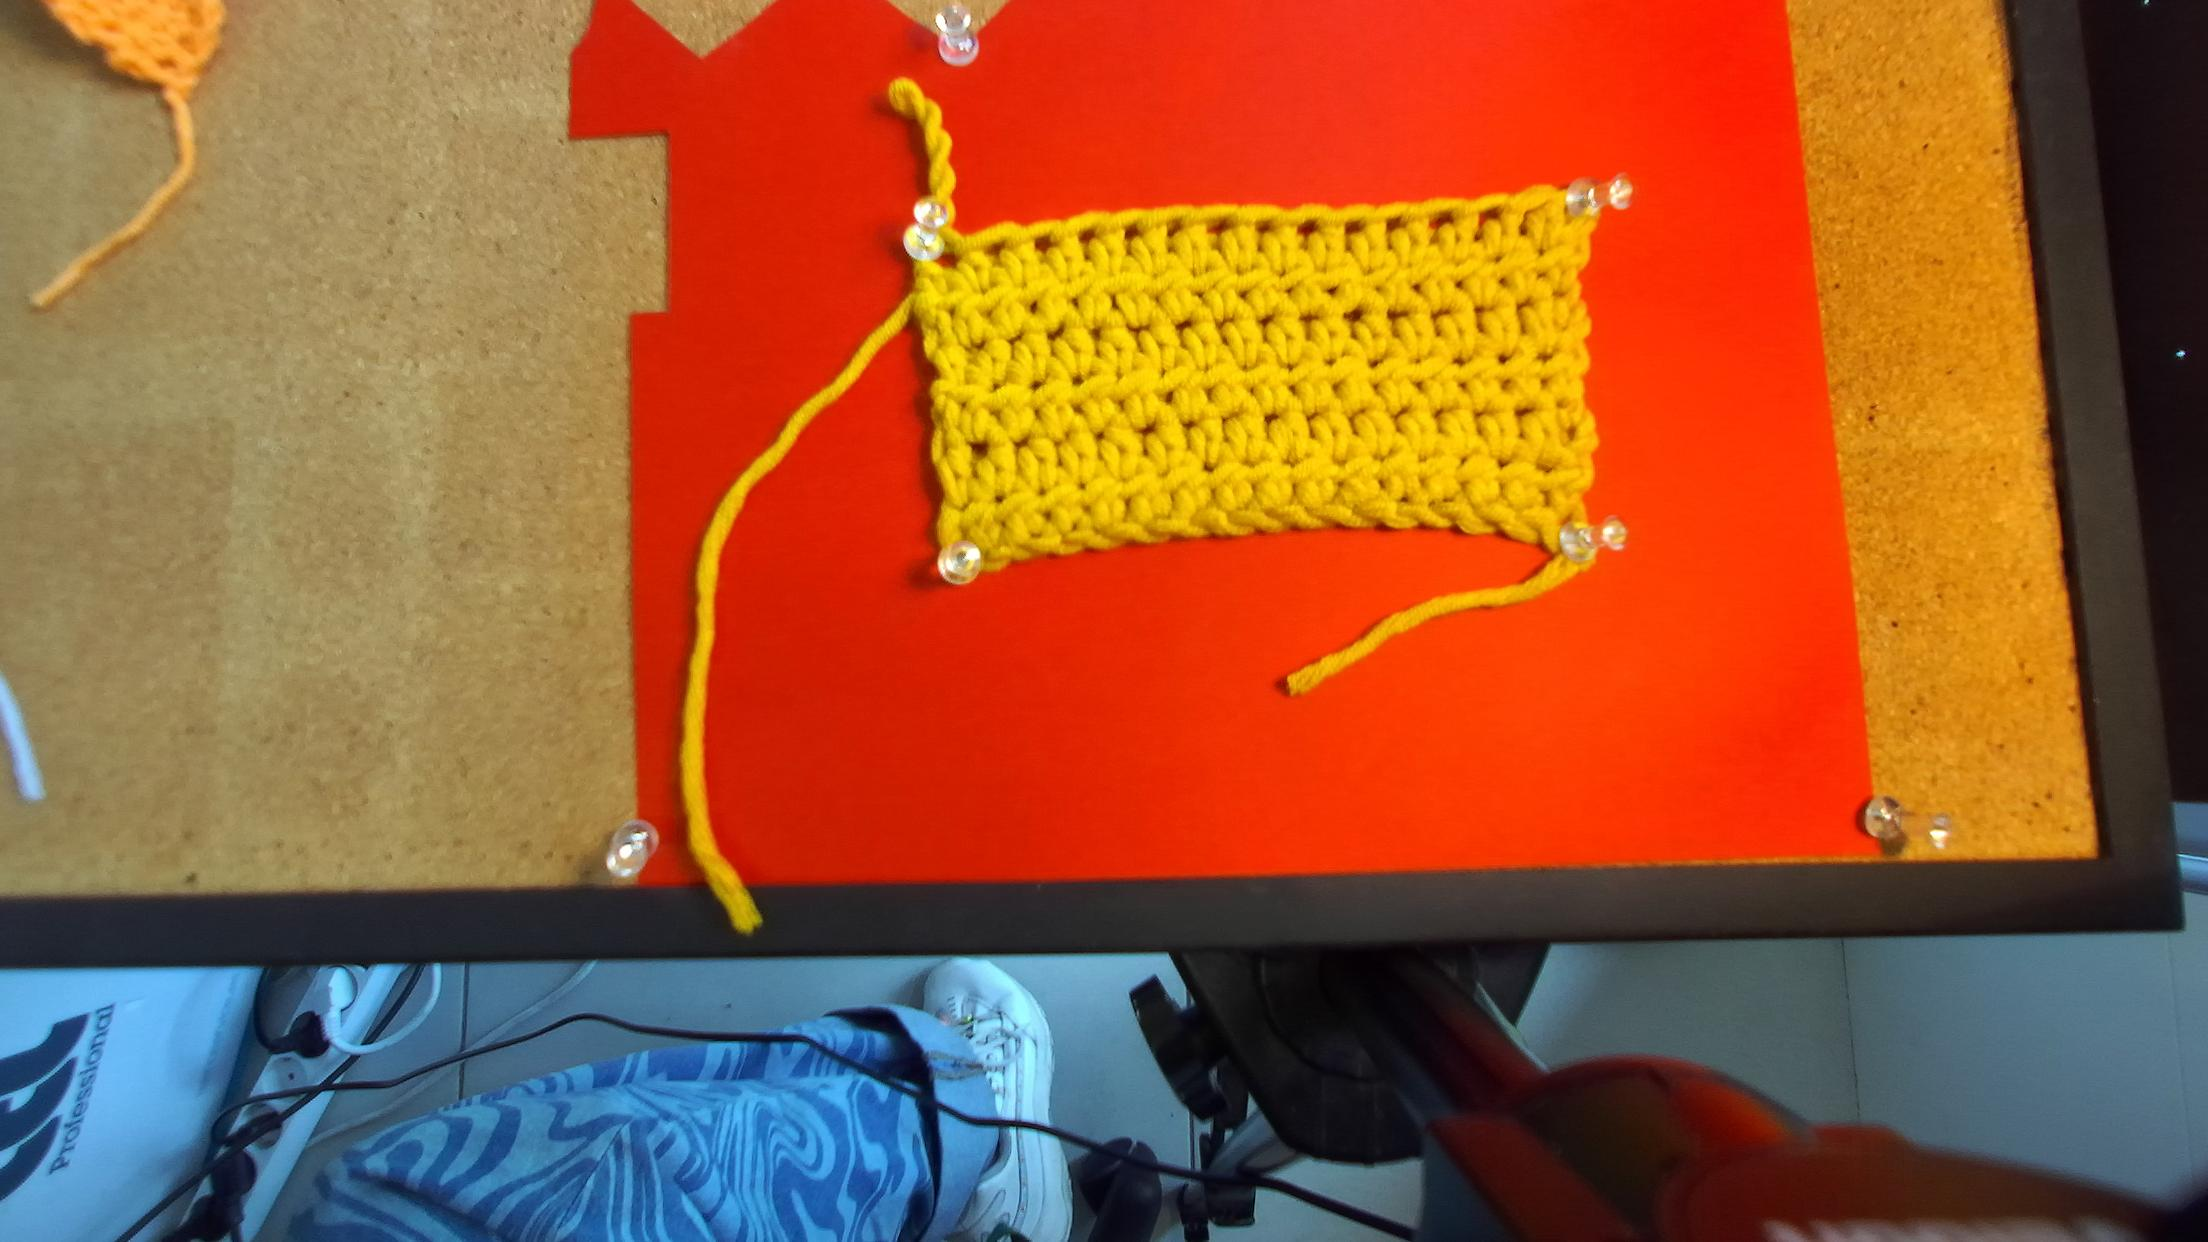hole: (1033, 234, 1062, 253), (1429, 212, 1453, 232), (934, 252, 960, 270), (981, 240, 1007, 258), (1524, 200, 1545, 220), (1295, 220, 1318, 238), (1477, 208, 1500, 226), (1204, 218, 1228, 235), (1385, 217, 1404, 235), (1345, 218, 1363, 237), (1124, 221, 1139, 243), (1078, 227, 1095, 244), (1168, 218, 1181, 238), (1254, 221, 1272, 234)
swatch: (905, 188, 1604, 588)
